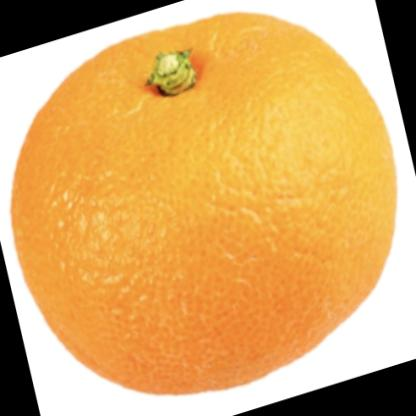fresh: (13, 14, 396, 394)
